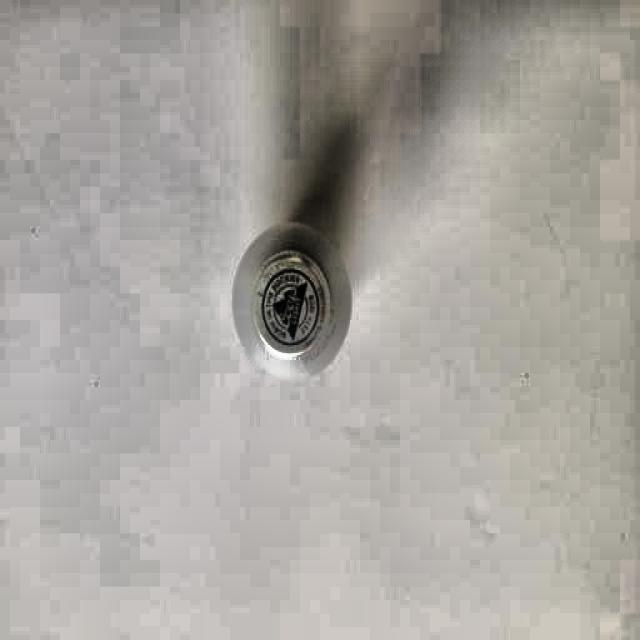metal: (230, 223, 354, 376)
